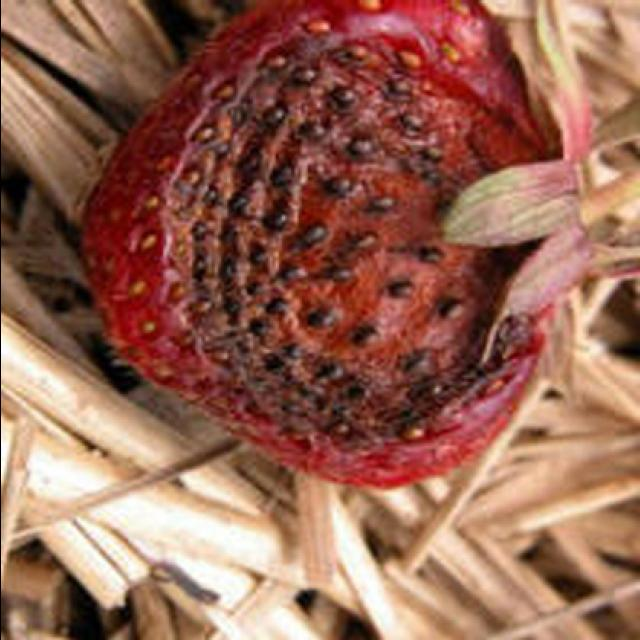Anthracnose Fruit Rot: (159, 17, 546, 464)
